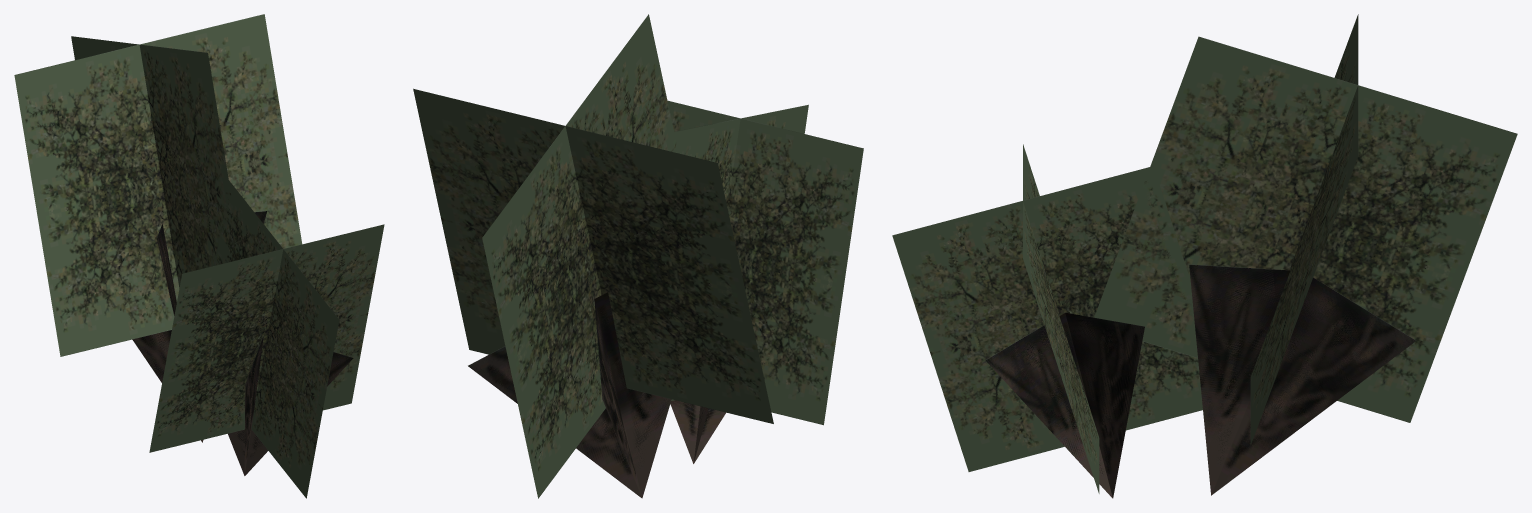
The model's file is decd_lok_mkpud_a1_l1.fbx.
3 views of the same model, side by side, from view 1: azimuth 30°, elevation 25°; view 2: azimuth 150°, elevation 25°; view 3: azimuth 270°, elevation 25° (orthographic). The views are drawn at different scales.
Visible parts, largest first — view 1: mesh_node; view 2: mesh_node; view 3: mesh_node.
Boxes of the visible parts, <box> form: mesh_node: <box>14,14,384,498</box>; mesh_node: <box>413,14,863,498</box>; mesh_node: <box>892,14,1517,498</box>.
Size of the model in its own units: 1.94 by 2.94 by 3.6.
